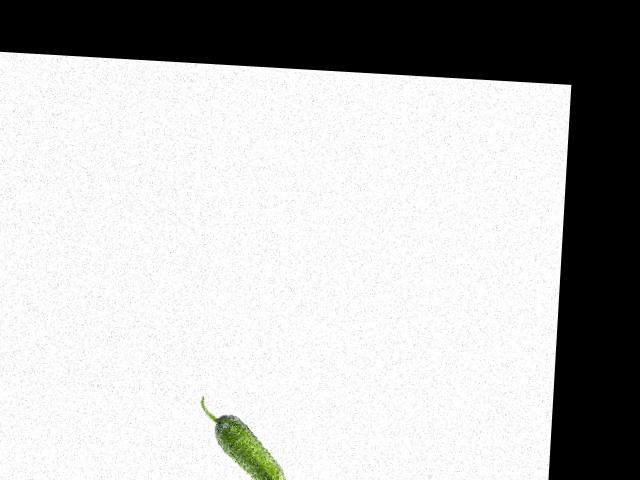cucumber: (196, 396, 308, 480)
